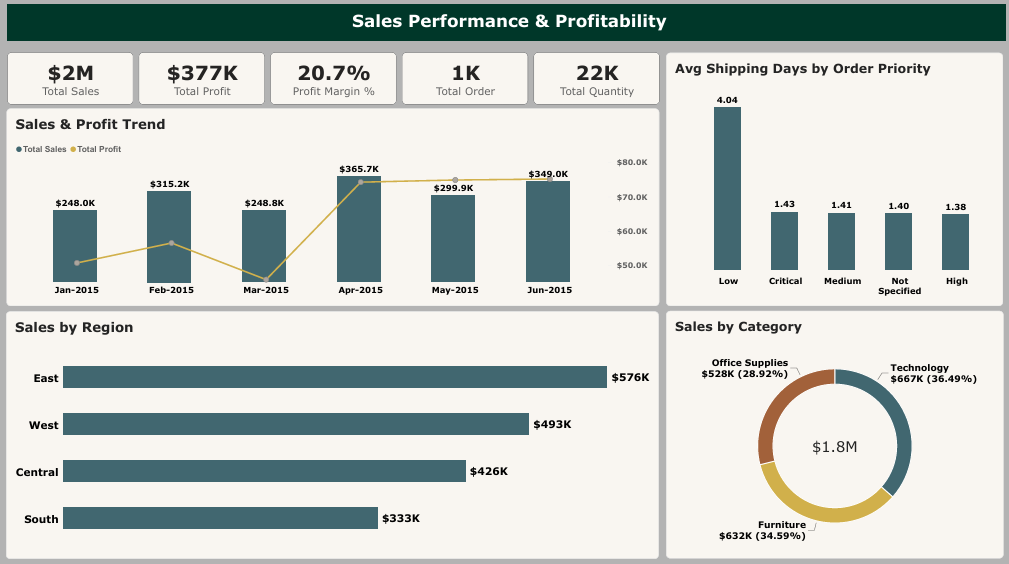

The dashboard page shown, as its layout file describes it:
{"tool":"powerbi","page":{"name":"Overview","canvas":[1920,1080],"ordinal":0},"visuals":[{"type":"shape","box":[16.8,9.7,1896,70.3],"z":0,"group":"g1"},{"type":"cardVisual","fields":{"Data":["Measures..Profit margin"]},"box":[515.7,100.5,240,100],"z":0},{"type":"textbox","box":[14.6,9.8,1896,70.3],"z":1000,"group":"g1"},{"type":"cardVisual","fields":{"Data":["Measures..Total quantity"]},"box":[1015.7,100.5,240,100],"z":1000},{"type":"cardVisual","fields":{"Data":["Measures..Total Sales"]},"box":[16.5,100.5,240,100],"z":2000},{"type":"cardVisual","fields":{"Data":["Measures..Total Profit"]},"box":[265.7,100.5,240,100],"z":3000},{"type":"cardVisual","fields":{"Data":["Measures..Total Order"]},"box":[765.7,100.5,240,100],"z":4000},{"type":"group","id":"g1","title":"Group 1","box":[14.6,9.7,1895.7,70.4],"z":5000},{"type":"lineStackedColumnComboChart","title":"Sales & Profit Trend","fields":{"Category":["Date.Month Year"],"Y":["Measures..Total Sales"],"Y2":["Measures..Total Profit"]},"box":[14.9,206.8,1240.4,376.2],"z":6000},{"type":"clusteredBarChart","title":"Sales by Region","fields":{"Category":["Orders.Region"],"Y":["Measures..Total Sales"]},"box":[13.7,592.7,1240.4,470.9],"z":7000},{"type":"donutChart","title":"Sales by Category","fields":{"Category":["Orders.Product Category"],"Y":["Measures..Total Sales"]},"box":[1268.3,592.2,640.8,470.9],"z":8000},{"type":"lineClusteredColumnComboChart","fields":{"Category":["Orders.Order Priority"],"Y":["Measures..Avg Shipping Days"]},"box":[1267.7,100.6,640.6,481.9],"z":10001}]}

Visuals, with their boxes in screenshot pixels (x1, y1, x2, y2), scaled from the page's 1920x1080 canvas onto the 1009x564 screenshot:
shape: crop(9, 5, 1005, 42)
cardVisual - Measures..Profit margin: crop(271, 52, 397, 105)
textbox: crop(8, 5, 1004, 42)
cardVisual - Measures..Total quantity: crop(534, 52, 660, 105)
cardVisual - Measures..Total Sales: crop(9, 52, 135, 105)
cardVisual - Measures..Total Profit: crop(140, 52, 266, 105)
cardVisual - Measures..Total Order: crop(402, 52, 529, 105)
"Group 1" group: crop(8, 5, 1004, 42)
"Sales & Profit Trend" lineStackedColumnComboChart: crop(8, 108, 660, 304)
"Sales by Region" clusteredBarChart: crop(7, 310, 659, 555)
"Sales by Category" donutChart: crop(667, 309, 1003, 555)
lineClusteredColumnComboChart - Orders.Order Priority x Measures..Avg Shipping Days: crop(666, 53, 1003, 304)
